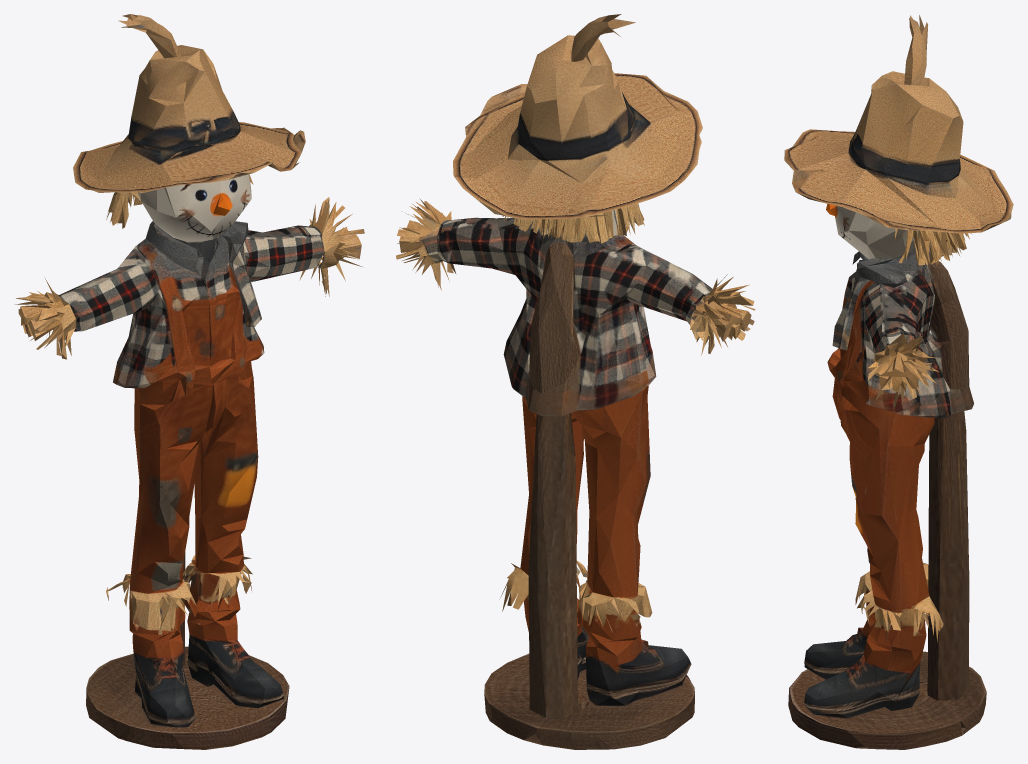
File: scarecrow.glb
3 views of the same model, side by side, from view 1: azimuth 30°, elevation 25°; view 2: azimuth 150°, elevation 25°; view 3: azimuth 270°, elevation 25° (orthographic). The views are drawn at different scales.
Parts seen in each view (by area): view 1: geometry_0; view 2: geometry_0; view 3: geometry_0.
Part boxes in pixels (x1,y1,x2,y2): geometry_0: [14, 14, 364, 749]; geometry_0: [396, 14, 755, 749]; geometry_0: [784, 15, 1013, 749].
Size of the model in its own units: 0.9743 by 1.95 by 0.6028.
Materials: 1 (1 with a texture image).
